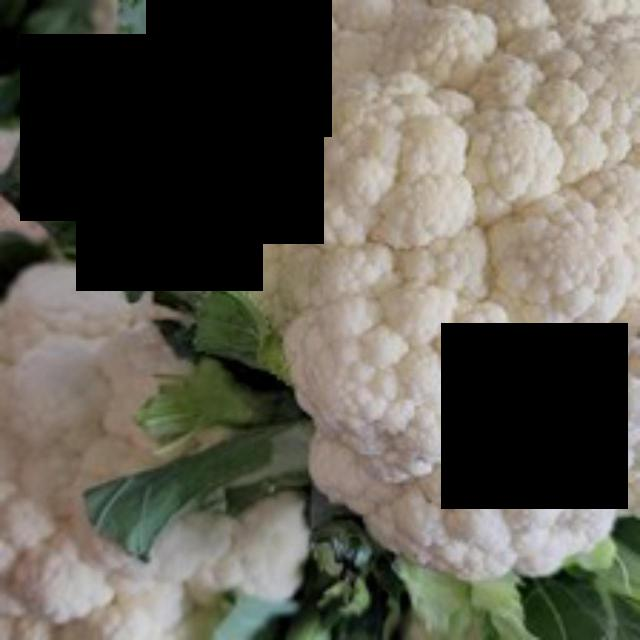cauliflower: (162, 0, 640, 593)
